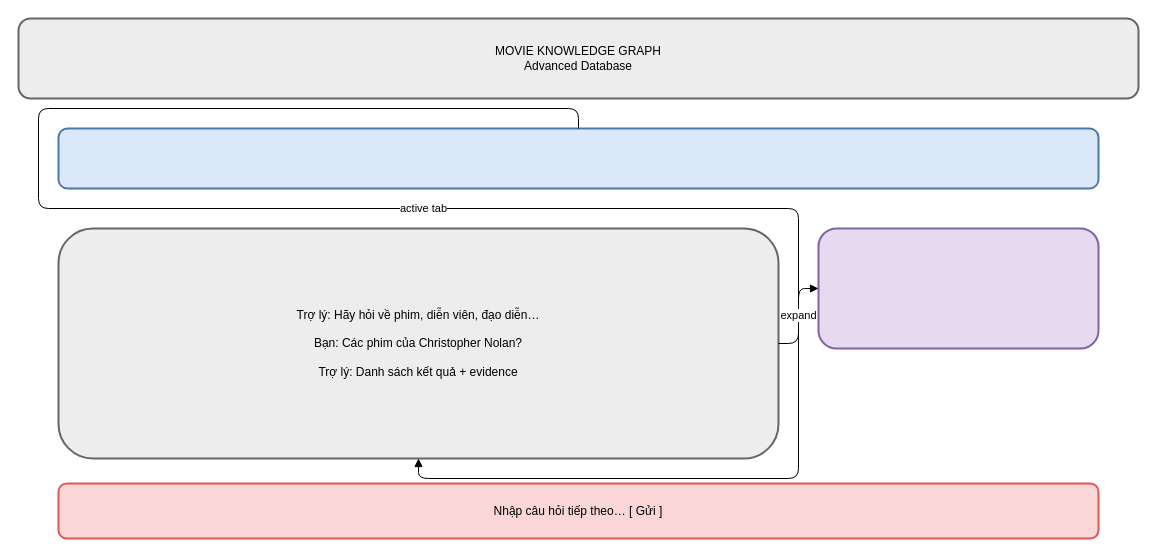
This 1156x556 diagram has some shape labels left out. The shapes that lost their labels are listed below. From the top down, each one's centre as x and y in pixels, then its label:
the point at 578,158: [ Hỏi đáp ] [ Gợi ý phim tương tự ]
the point at 958,288: GRAPH EVIDENCE Entity link · Cypher intent Rows · latency
